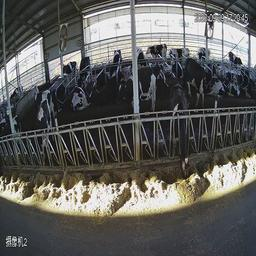cow: (170, 78, 193, 191), (116, 65, 159, 117), (181, 56, 205, 107), (96, 69, 122, 111), (207, 70, 229, 111), (72, 77, 91, 115), (31, 82, 57, 109), (227, 67, 243, 103), (145, 39, 169, 61), (225, 49, 245, 71), (61, 54, 76, 83), (81, 49, 94, 82), (197, 42, 214, 66), (106, 44, 123, 68), (241, 67, 253, 101)
